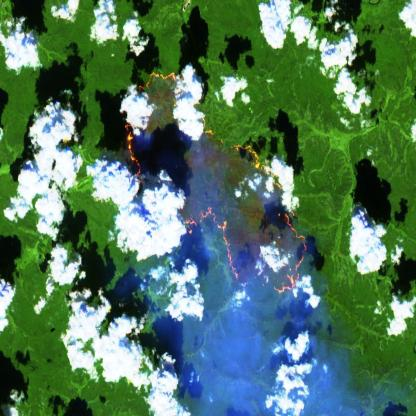fire: (124, 69, 310, 297)
